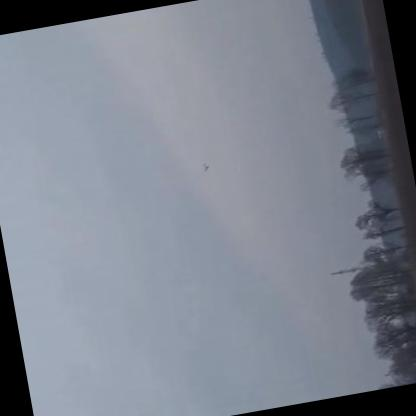plane: (198, 159, 215, 176)
